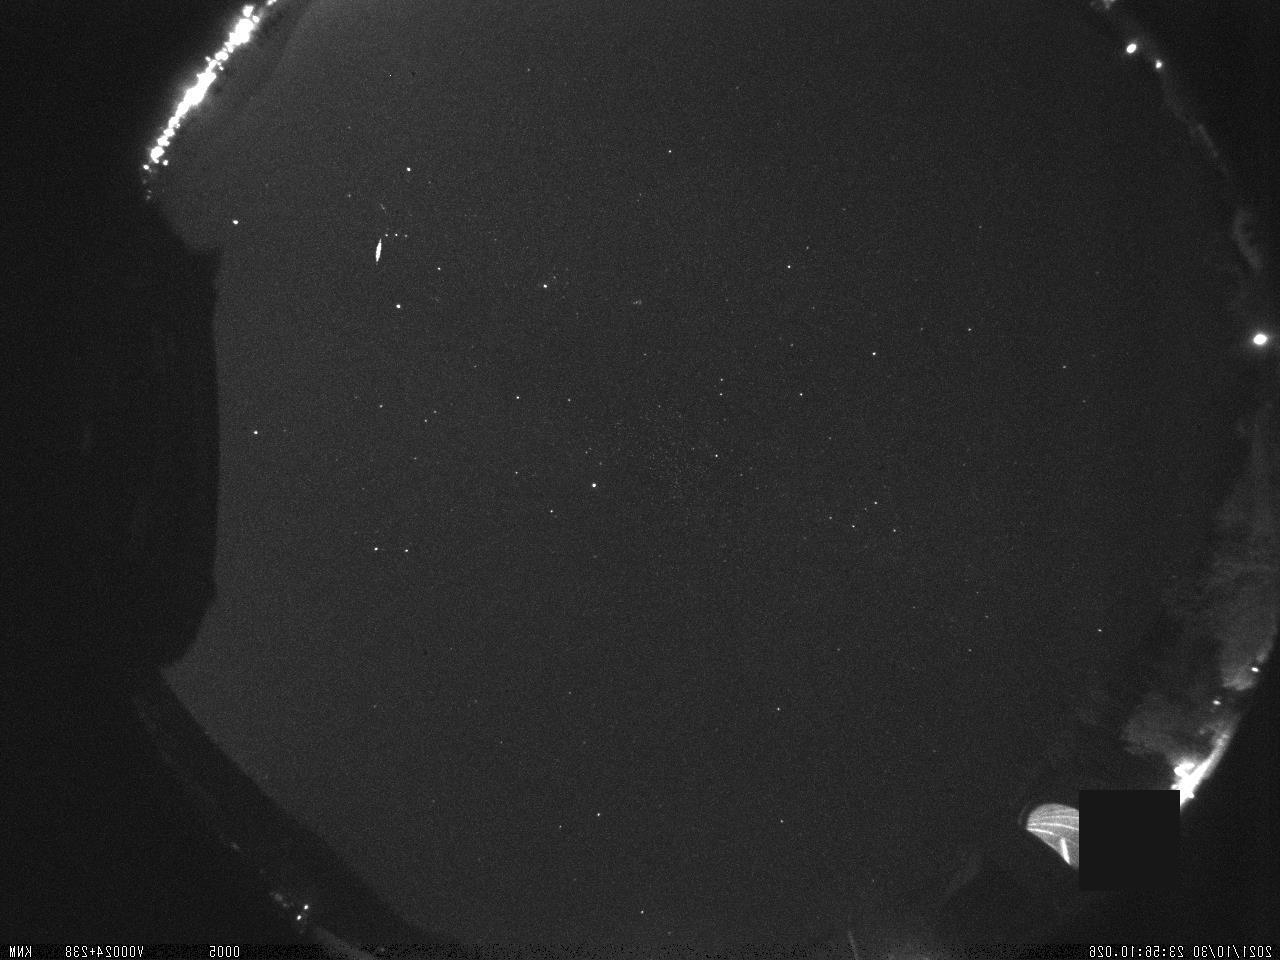meteor: (366, 235, 391, 271)
